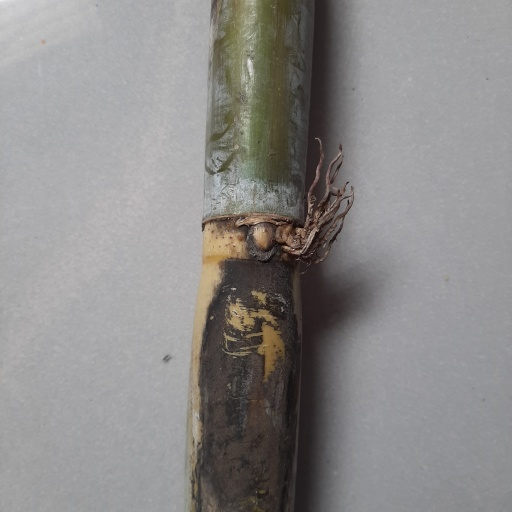Bud: (249, 221, 276, 253)
